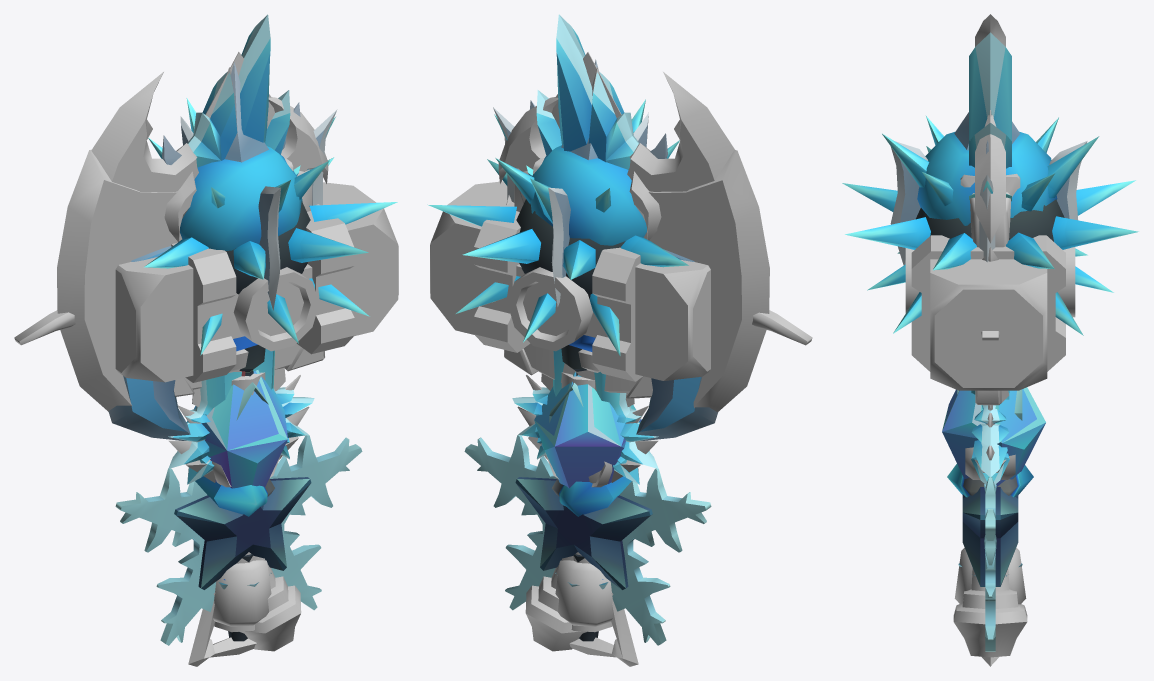
3 views of the same model, side by side, from view 1: azimuth 30°, elevation 25°; view 2: azimuth 150°, elevation 25°; view 3: azimuth 270°, elevation 25° (orthographic).
Visible parts, largest first — view 1: vk_t5_a3_lv6, vk_t5_a3_lv3, vk_t5_a3_lv10, vk_t5_a3_lv5, vk_t5_a3_lv12, vk_t5_a3_lv11, vk_t5_a3_lv7, vk_t5_a3_lv1, vk_t5_a3_lv9, vk_t5_a3_lv4, vk_t5_a3_lv8, vk_t5_a3_lv2; view 2: vk_t5_a3_lv6, vk_t5_a3_lv3, vk_t5_a3_lv10, vk_t5_a3_lv12, vk_t5_a3_lv5, vk_t5_a3_lv7, vk_t5_a3_lv11, vk_t5_a3_lv1, vk_t5_a3_lv4, vk_t5_a3_lv9, vk_t5_a3_lv8, vk_t5_a3_lv2; view 3: vk_t5_a3_lv6, vk_t5_a3_lv7, vk_t5_a3_lv5, vk_t5_a3_lv12, vk_t5_a3_lv11, vk_t5_a3_lv3, vk_t5_a3_lv1, vk_t5_a3_lv10, vk_t5_a3_lv8, vk_t5_a3_lv4.
Part boxes in pixels (x1=…): vk_t5_a3_lv6: x1=115, y1=182, x2=398, y2=626; vk_t5_a3_lv3: x1=115, y1=434, x2=362, y2=645; vk_t5_a3_lv10: x1=57, y1=149, x2=312, y2=632; vk_t5_a3_lv5: x1=162, y1=62, x2=337, y2=516; vk_t5_a3_lv12: x1=91, y1=67, x2=328, y2=651; vk_t5_a3_lv11: x1=168, y1=14, x2=314, y2=580; vk_t5_a3_lv7: x1=144, y1=98, x2=397, y2=641; vk_t5_a3_lv1: x1=187, y1=370, x2=287, y2=488; vk_t5_a3_lv9: x1=108, y1=246, x2=271, y2=589; vk_t5_a3_lv4: x1=174, y1=343, x2=324, y2=666; vk_t5_a3_lv8: x1=168, y1=52, x2=309, y2=487; vk_t5_a3_lv2: x1=14, y1=310, x2=75, y2=345; vk_t5_a3_lv6: x1=430, y1=181, x2=710, y2=626; vk_t5_a3_lv3: x1=464, y1=434, x2=711, y2=645; vk_t5_a3_lv10: x1=514, y1=150, x2=769, y2=632; vk_t5_a3_lv12: x1=498, y1=67, x2=734, y2=651; vk_t5_a3_lv5: x1=493, y1=59, x2=667, y2=516; vk_t5_a3_lv7: x1=427, y1=99, x2=688, y2=641; vk_t5_a3_lv11: x1=512, y1=14, x2=658, y2=579; vk_t5_a3_lv1: x1=534, y1=372, x2=641, y2=488; vk_t5_a3_lv4: x1=504, y1=343, x2=652, y2=666; vk_t5_a3_lv9: x1=555, y1=249, x2=718, y2=589; vk_t5_a3_lv8: x1=517, y1=52, x2=658, y2=487; vk_t5_a3_lv2: x1=752, y1=310, x2=812, y2=345; vk_t5_a3_lv6: x1=905, y1=235, x2=1075, y2=604; vk_t5_a3_lv7: x1=842, y1=116, x2=1138, y2=335; vk_t5_a3_lv5: x1=890, y1=112, x2=1087, y2=497; vk_t5_a3_lv12: x1=953, y1=14, x2=1027, y2=657; vk_t5_a3_lv11: x1=957, y1=32, x2=1022, y2=484; vk_t5_a3_lv3: x1=962, y1=477, x2=1018, y2=651; vk_t5_a3_lv1: x1=942, y1=387, x2=1045, y2=486; vk_t5_a3_lv10: x1=960, y1=173, x2=1020, y2=247; vk_t5_a3_lv8: x1=965, y1=110, x2=1015, y2=479; vk_t5_a3_lv4: x1=975, y1=390, x2=1009, y2=666.
Size of the model in its own units: 1.17 by 1.98 by 0.8503.
